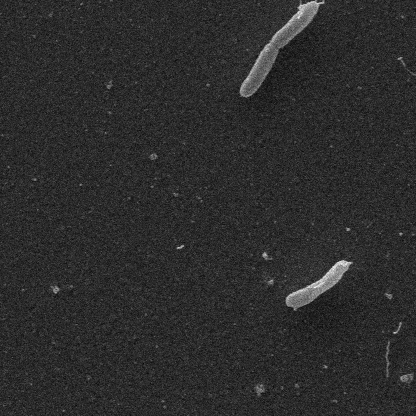cell2surface: (297, 0, 305, 7)
regular: (237, 2, 318, 102), (282, 260, 351, 308)
